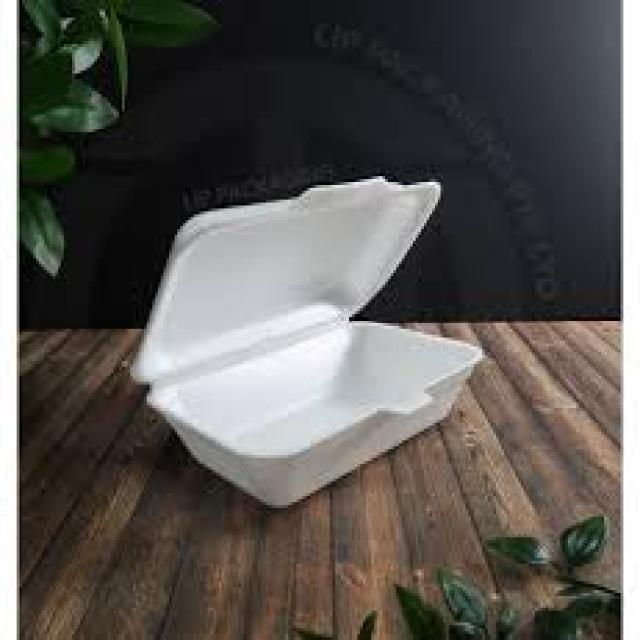styrofoam: (133, 183, 483, 507)
